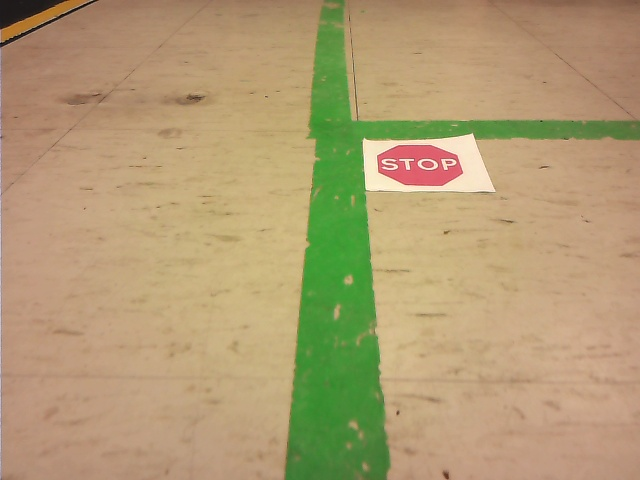STOP: (378, 145, 463, 185)
